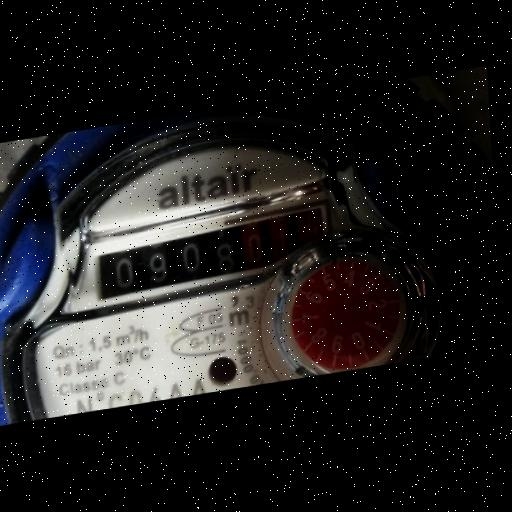0: (97, 248, 144, 299), (165, 233, 209, 285), (236, 219, 274, 271)
1: (263, 213, 303, 266)
4: (293, 207, 326, 250)
8: (198, 225, 248, 279)
9: (134, 241, 175, 291)
border_water_meter_number: (46, 189, 344, 321)
